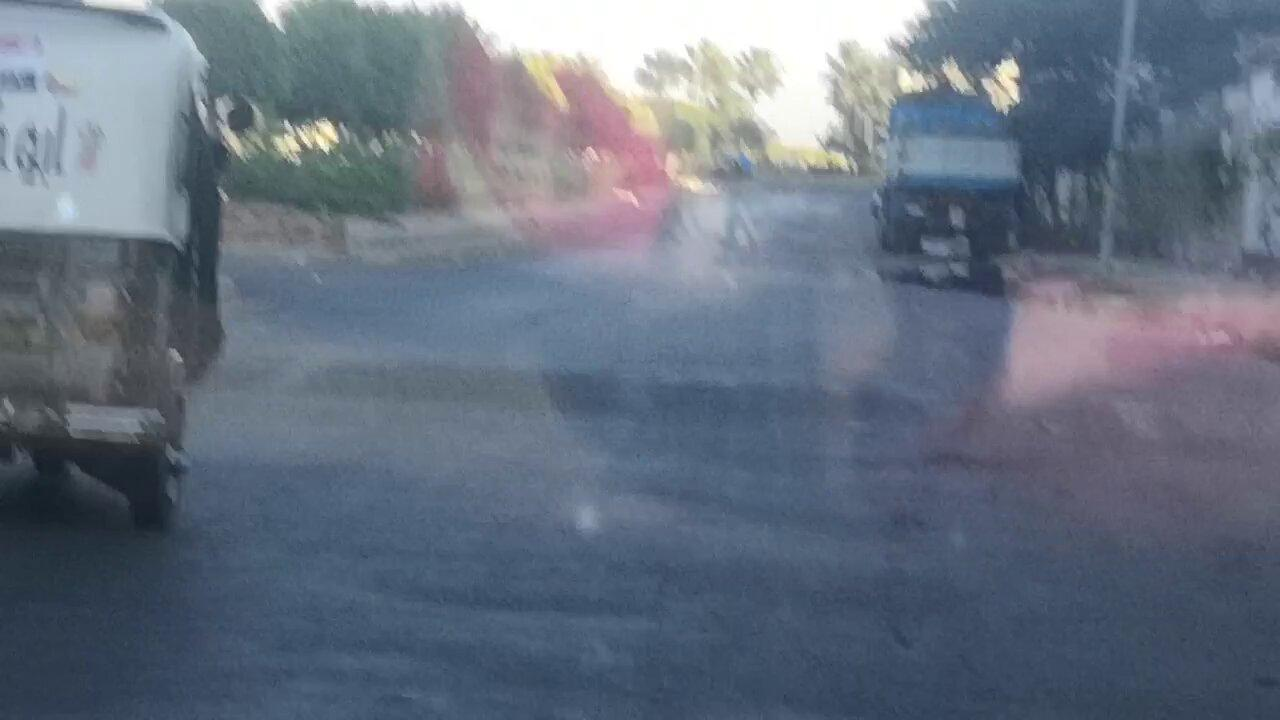Bump: (272, 337, 1242, 475)
